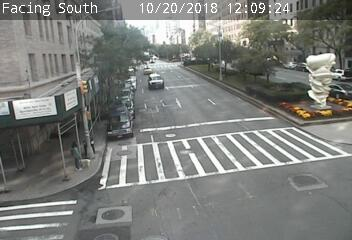carw: (149, 74, 164, 90), (143, 65, 154, 75)
